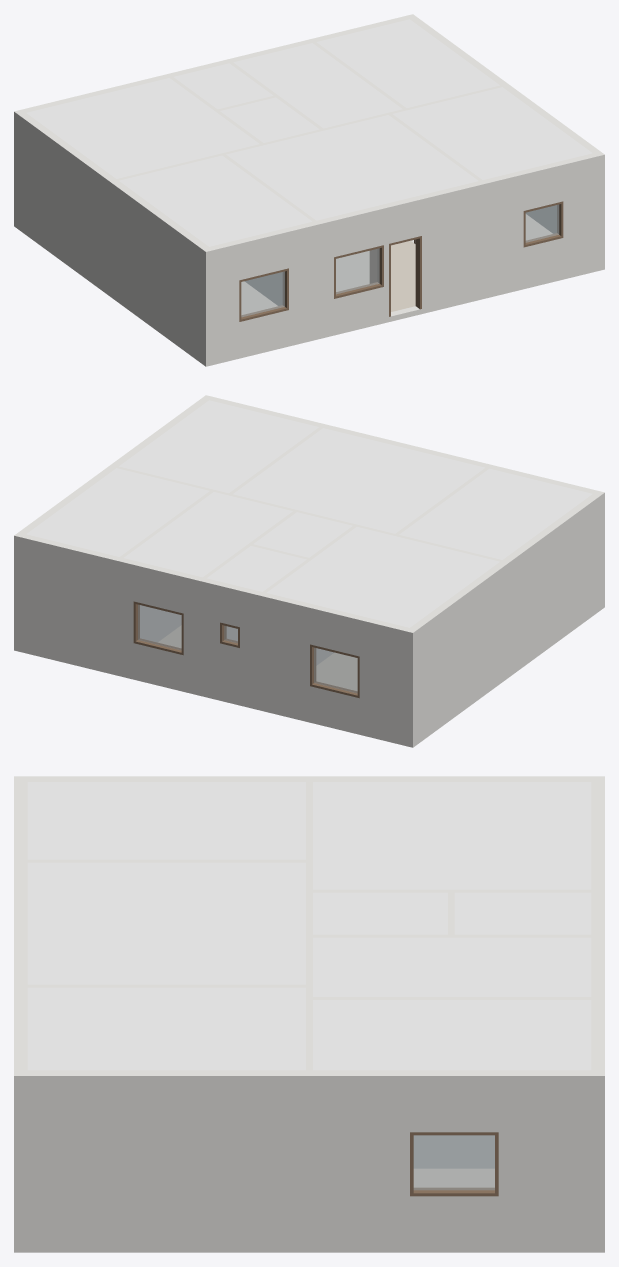
3 renders of one model, top to bottom at view 1: azimuth 30°, elevation 25°; view 2: azimuth 150°, elevation 25°; view 3: azimuth 270°, elevation 25°, orthographic. The views are drawn at different scales.
Visible parts, largest first — view 1: SM_T01_L00_WALLS, SM_T01_L00_CEILING_R01, SM_T01_L00_CEILING_R04, SM_T01_L00_CEILING_R03, SM_T01_L00_CEILING_R02, SM_T01_L00_CEILING_R08, SM_T01_L00_CEILING_R07, SM_T01_L00_FLOOR_R01, SM_T01_L00_CEILING_R05, SM_T01_L00_CEILING_R06, SM_T01_L00_GLASS_O02, SM_T01_L00_GLASS_O03 (+6 smaller); view 2: SM_T01_L00_WALLS, SM_T01_L00_CEILING_R01, SM_T01_L00_CEILING_R04, SM_T01_L00_CEILING_R03, SM_T01_L00_CEILING_R02, SM_T01_L00_CEILING_R08, SM_T01_L00_CEILING_R07, SM_T01_L00_CEILING_R05, SM_T01_L00_CEILING_R06, SM_T01_L00_GLASS_O05, SM_T01_L00_GLASS_O07, SM_T01_L00_FLOOR_R04 (+2 smaller); view 3: SM_T01_L00_WALLS, SM_T01_L00_CEILING_R01, SM_T01_L00_CEILING_R04, SM_T01_L00_CEILING_R03, SM_T01_L00_CEILING_R02, SM_T01_L00_CEILING_R08, SM_T01_L00_CEILING_R07, SM_T01_L00_CEILING_R05, SM_T01_L00_CEILING_R06, SM_T01_L00_GLASS_O08, SM_T01_L00_FRAME_O08, SM_T01_L00_FLOOR_R08.
Boxes of the visible parts, x1=… form: SM_T01_L00_WALLS: x1=14, y1=14, x2=604, y2=366; SM_T01_L00_CEILING_R01: x1=226, y1=115, x2=478, y2=220; SM_T01_L00_CEILING_R04: x1=26, y1=78, x2=259, y2=178; SM_T01_L00_CEILING_R03: x1=393, y1=87, x2=592, y2=179; SM_T01_L00_CEILING_R02: x1=119, y1=155, x2=311, y2=246; SM_T01_L00_CEILING_R08: x1=316, y1=19, x2=499, y2=107; SM_T01_L00_CEILING_R07: x1=233, y1=43, x2=402, y2=128; SM_T01_L00_FLOOR_R01: x1=336, y1=240, x2=415, y2=311; SM_T01_L00_CEILING_R05: x1=174, y1=63, x2=273, y2=109; SM_T01_L00_CEILING_R06: x1=220, y1=97, x2=319, y2=142; SM_T01_L00_GLASS_O02: x1=336, y1=248, x2=379, y2=294; SM_T01_L00_GLASS_O03: x1=241, y1=271, x2=284, y2=316; SM_T01_L00_WALLS: x1=14, y1=395, x2=604, y2=747; SM_T01_L00_CEILING_R01: x1=233, y1=428, x2=484, y2=533; SM_T01_L00_CEILING_R04: x1=267, y1=527, x2=499, y2=627; SM_T01_L00_CEILING_R03: x1=119, y1=400, x2=318, y2=493; SM_T01_L00_CEILING_R02: x1=399, y1=468, x2=592, y2=559; SM_T01_L00_CEILING_R08: x1=26, y1=468, x2=209, y2=556; SM_T01_L00_CEILING_R07: x1=124, y1=492, x2=292, y2=577; SM_T01_L00_CEILING_R05: x1=207, y1=546, x2=306, y2=591; SM_T01_L00_CEILING_R06: x1=253, y1=512, x2=352, y2=557; SM_T01_L00_GLASS_O05: x1=314, y1=647, x2=357, y2=693; SM_T01_L00_GLASS_O07: x1=138, y1=604, x2=181, y2=650; SM_T01_L00_FLOOR_R04: x1=316, y1=652, x2=357, y2=690; SM_T01_L00_WALLS: x1=14, y1=776, x2=604, y2=1252; SM_T01_L00_CEILING_R01: x1=27, y1=862, x2=305, y2=984; SM_T01_L00_CEILING_R04: x1=313, y1=782, x2=591, y2=889; SM_T01_L00_CEILING_R03: x1=27, y1=987, x2=305, y2=1070; SM_T01_L00_CEILING_R02: x1=27, y1=782, x2=305, y2=859; SM_T01_L00_CEILING_R08: x1=313, y1=1000, x2=591, y2=1070; SM_T01_L00_CEILING_R07: x1=313, y1=937, x2=591, y2=996; SM_T01_L00_CEILING_R05: x1=454, y1=892, x2=591, y2=934; SM_T01_L00_CEILING_R06: x1=313, y1=892, x2=447, y2=934; SM_T01_L00_GLASS_O08: x1=413, y1=1135, x2=494, y2=1190; SM_T01_L00_FRAME_O08: x1=410, y1=1132, x2=498, y2=1196; SM_T01_L00_FLOOR_R08: x1=413, y1=1168, x2=494, y2=1187.
Size of the model in its own units: 1200 by 330 by 1000.
